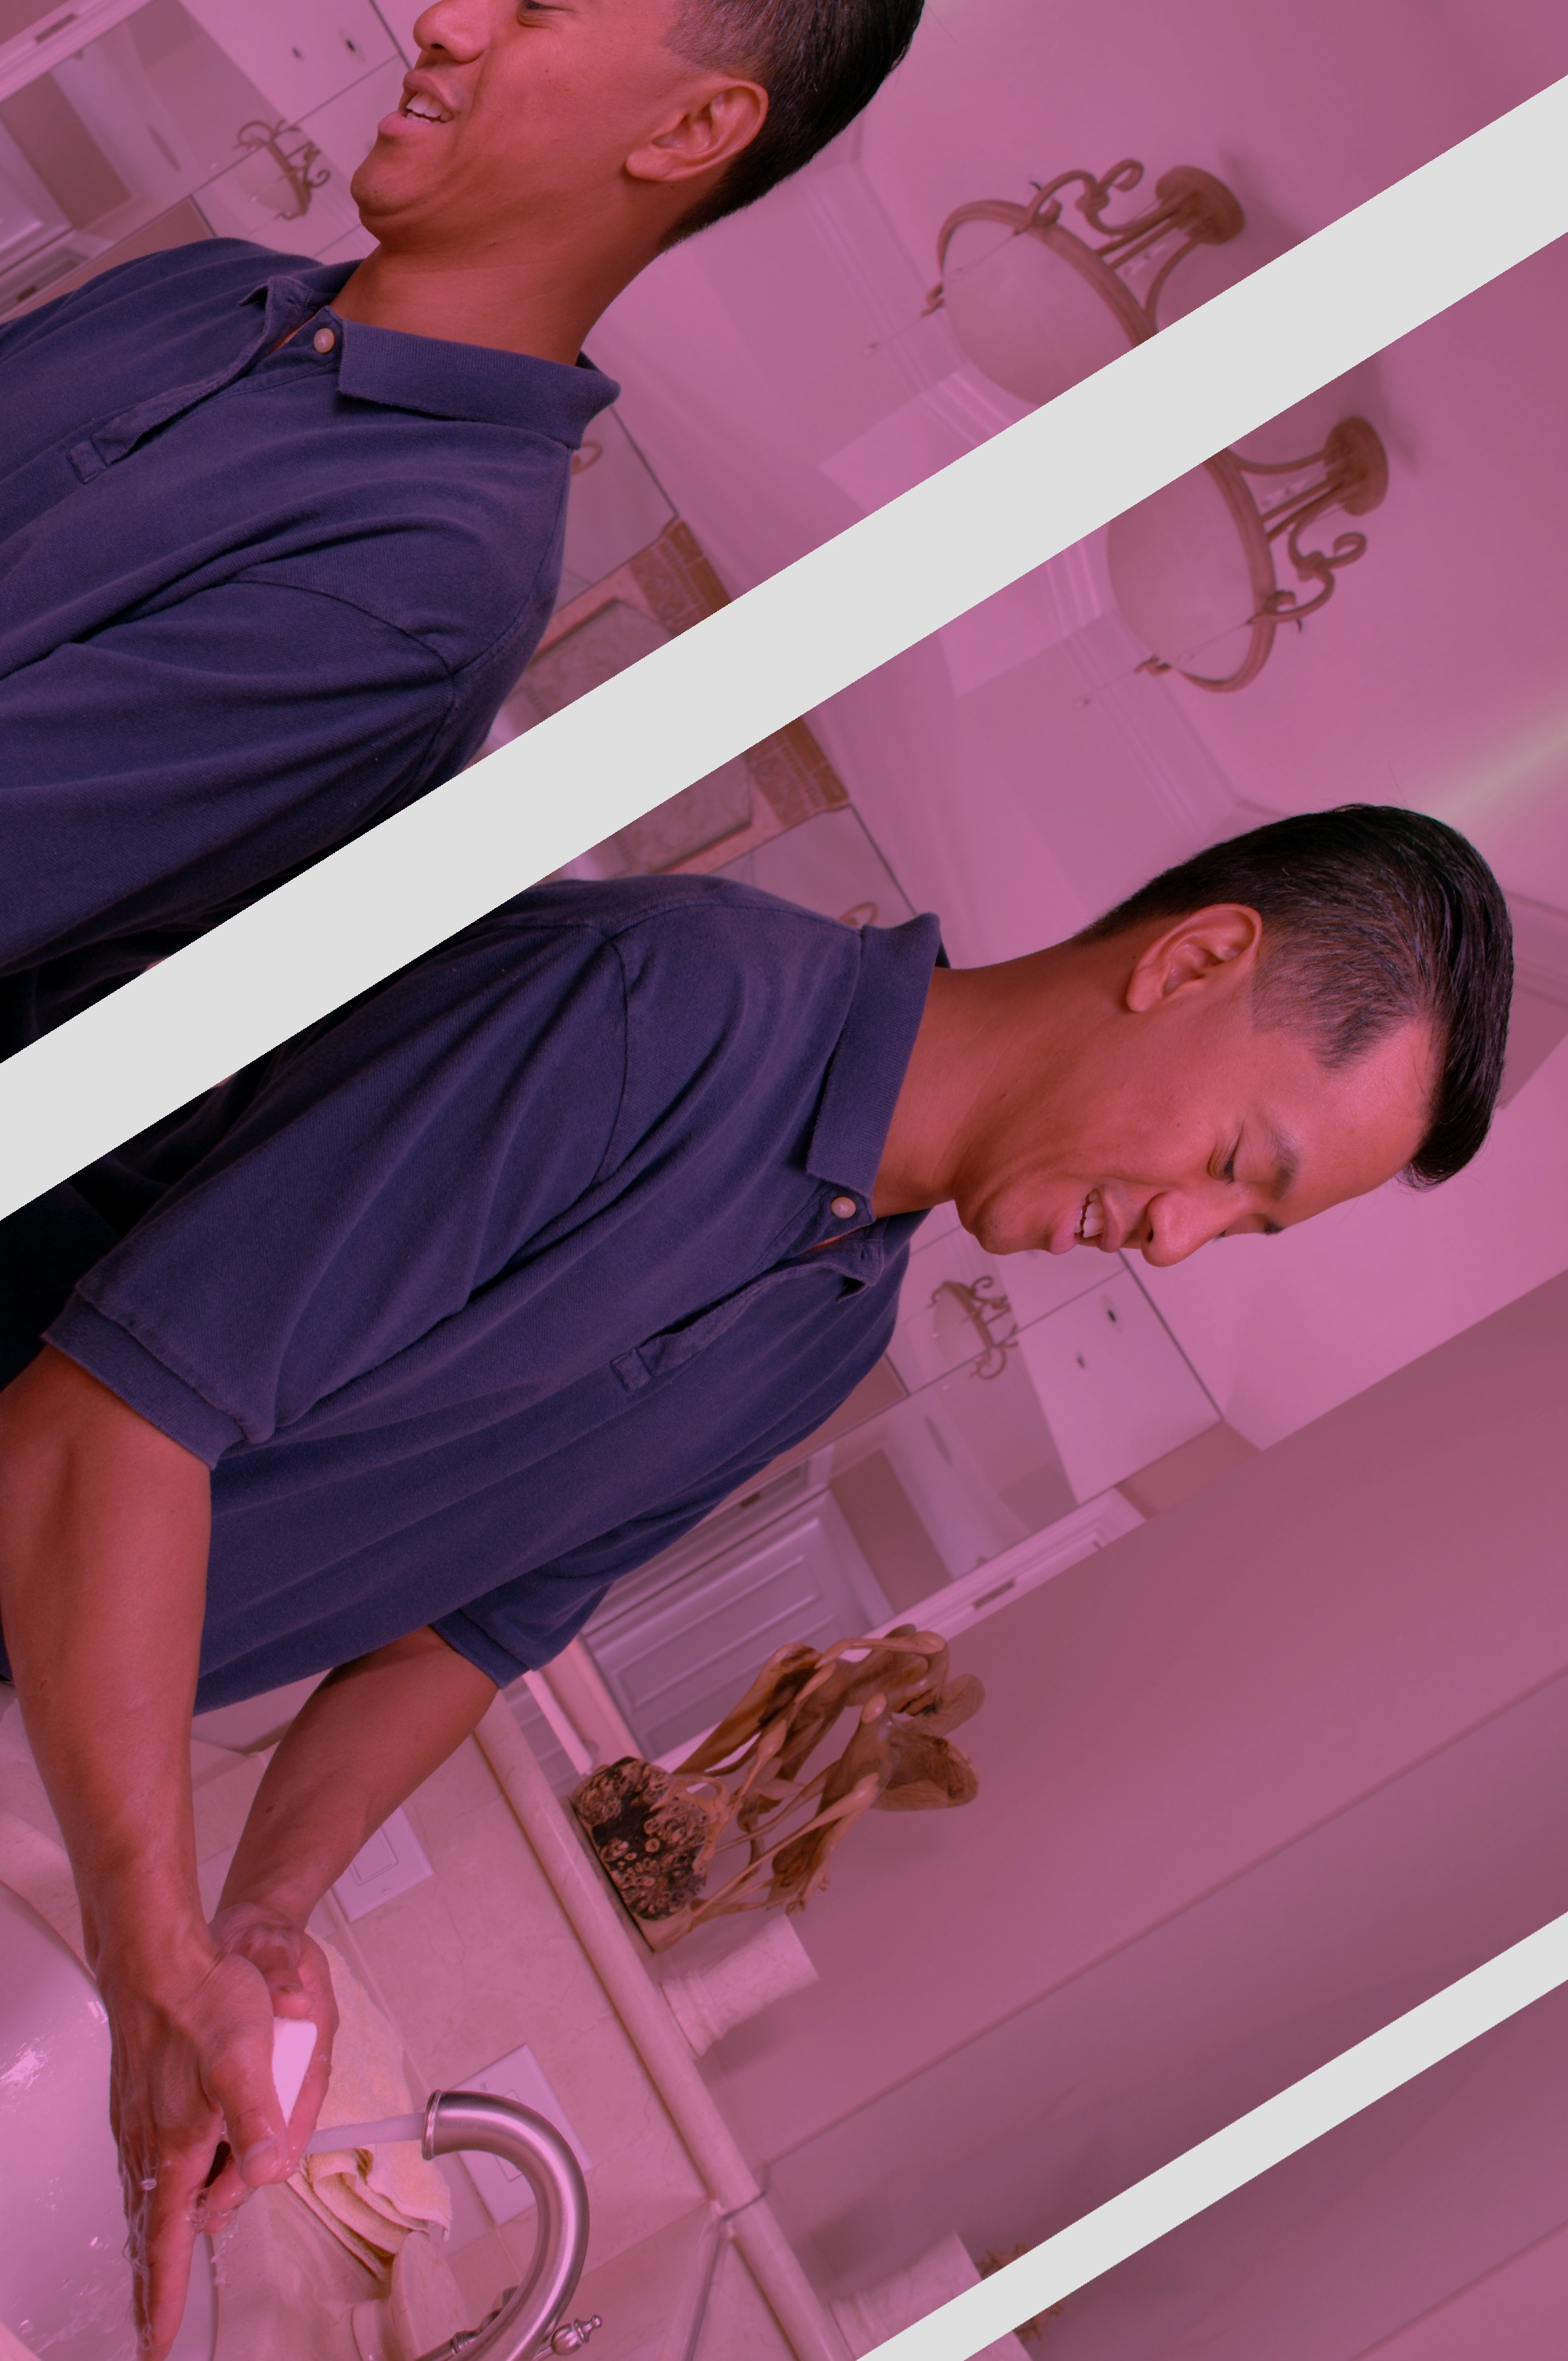washing hand: (0, 1736, 840, 2361)
